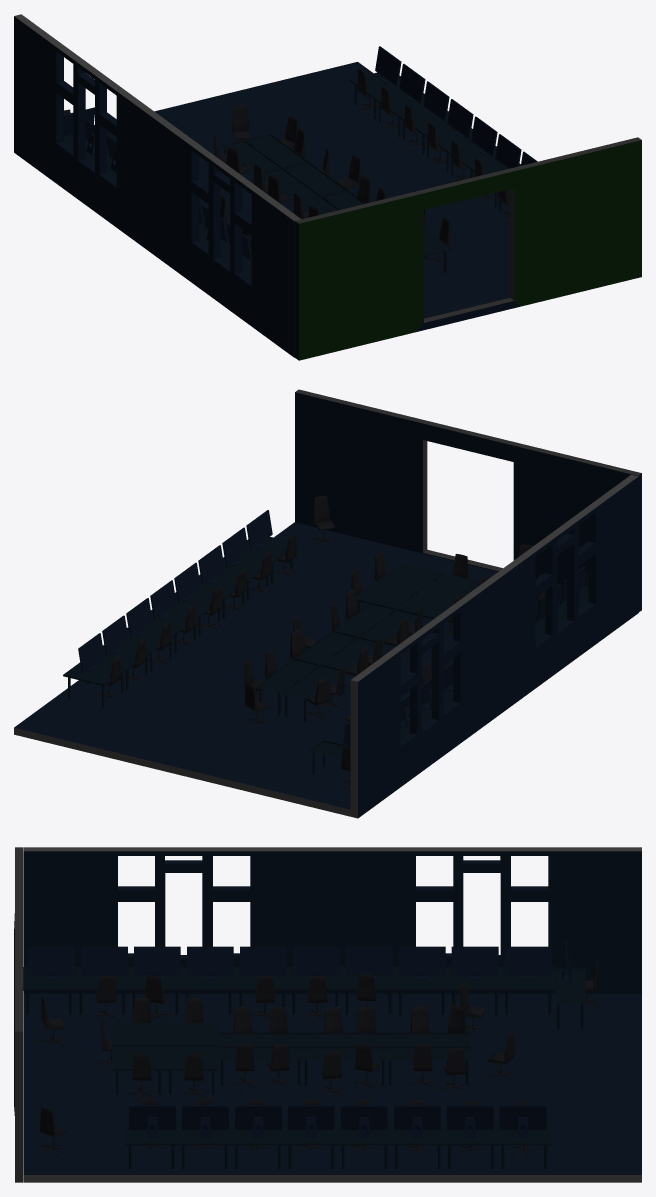
File: roomDes.gltf
3 renders of one model, top to bottom at view 1: azimuth 30°, elevation 25°; view 2: azimuth 150°, elevation 25°; view 3: azimuth 270°, elevation 25°, orthographic. The views are drawn at different scales.
Parts seen in each view (by area): view 1: wall_des_center, wall_des_right, floor_des, desks_des_center, mac_des_left, desks_des_left, chair.026, mac_des, desk_des_right, chair.024, desk2_des_center; view 2: floor_des, wall_des_right, wall_des_center, desks_des_center, desks_des_left, mac_des_left, chair.026, desk2_des_center, desk2_des_center2, mac_des, desk_des_right, chair.008; view 3: floor_des, wall_des_right, mac_des, mac_des_left, desk_des_right, desks_des_left, desks_des_center, wall_des_center, desk2_des_center2, desk2_des_center, chair.026, desk_des_prof (+17 smaller).
Boxes of the visible parts, bbox=[...] form: wall_des_center: bbox=[295, 137, 641, 360]; wall_des_right: bbox=[14, 14, 300, 357]; floor_des: bbox=[113, 62, 509, 318]; desks_des_center: bbox=[221, 134, 365, 214]; mac_des_left: bbox=[375, 46, 537, 169]; desks_des_left: bbox=[349, 72, 520, 211]; chair.026: bbox=[358, 68, 509, 223]; mac_des: bbox=[85, 119, 251, 260]; desk_des_right: bbox=[70, 141, 251, 278]; chair.024: bbox=[232, 105, 251, 140]; desk2_des_center: bbox=[424, 229, 451, 272]; floor_des: bbox=[14, 522, 562, 816]; wall_des_right: bbox=[350, 474, 638, 818]; wall_des_center: bbox=[295, 389, 641, 612]; desks_des_center: bbox=[256, 603, 417, 721]; desks_des_left: bbox=[63, 537, 297, 707]; mac_des_left: bbox=[78, 510, 272, 673]; chair.026: bbox=[96, 533, 296, 701]; desk2_des_center: bbox=[355, 563, 442, 612]; desk2_des_center2: bbox=[397, 573, 478, 619]; mac_des: bbox=[400, 563, 588, 727]; desk_des_right: bbox=[400, 572, 588, 739]; chair.008: bbox=[311, 495, 335, 547]; floor_des: bbox=[23, 994, 641, 1182]; wall_des_right: bbox=[23, 847, 641, 993]; mac_des: bbox=[28, 946, 551, 980]; mac_des_left: bbox=[129, 1105, 546, 1138]; desk_des_right: bbox=[23, 967, 555, 1014]; desks_des_left: bbox=[125, 1121, 551, 1169]; desks_des_center: bbox=[219, 1032, 470, 1085]; wall_des_center: bbox=[14, 847, 23, 1182]; desk2_des_center2: bbox=[112, 1023, 218, 1046]; desk2_des_center: bbox=[112, 1046, 218, 1094]; chair.026: bbox=[137, 1098, 537, 1158]; desk_des_prof: bbox=[555, 967, 585, 1028].
Bounding box in the file's own units: 41.1 × 15.65 × 58.97.
